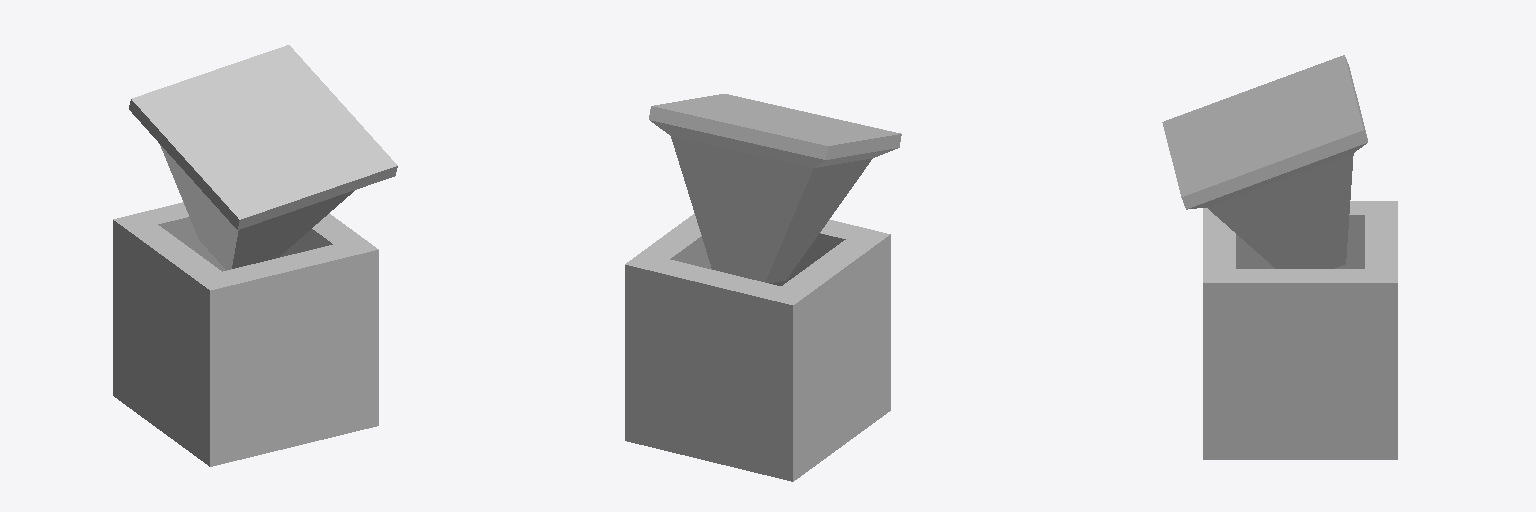
Rendered from AnimatedBox_000140.obj.
3 views of the same model, side by side, from view 1: azimuth 30°, elevation 25°; view 2: azimuth 150°, elevation 25°; view 3: azimuth 270°, elevation 25° (orthographic).
Visible parts, largest first — view 1: Cube, Cube.001; view 2: Cube, Cube.001; view 3: Cube, Cube.001.
Boxes of the visible parts, <box> form: Cube: <box>113,202,378,466</box>; Cube.001: <box>129,45,397,270</box>; Cube: <box>625,213,890,481</box>; Cube.001: <box>649,94,901,282</box>; Cube: <box>1203,201,1397,459</box>; Cube.001: <box>1162,55,1367,268</box>.
Bounding box in the file's own units: 2.2 × 3.68 × 2.42.